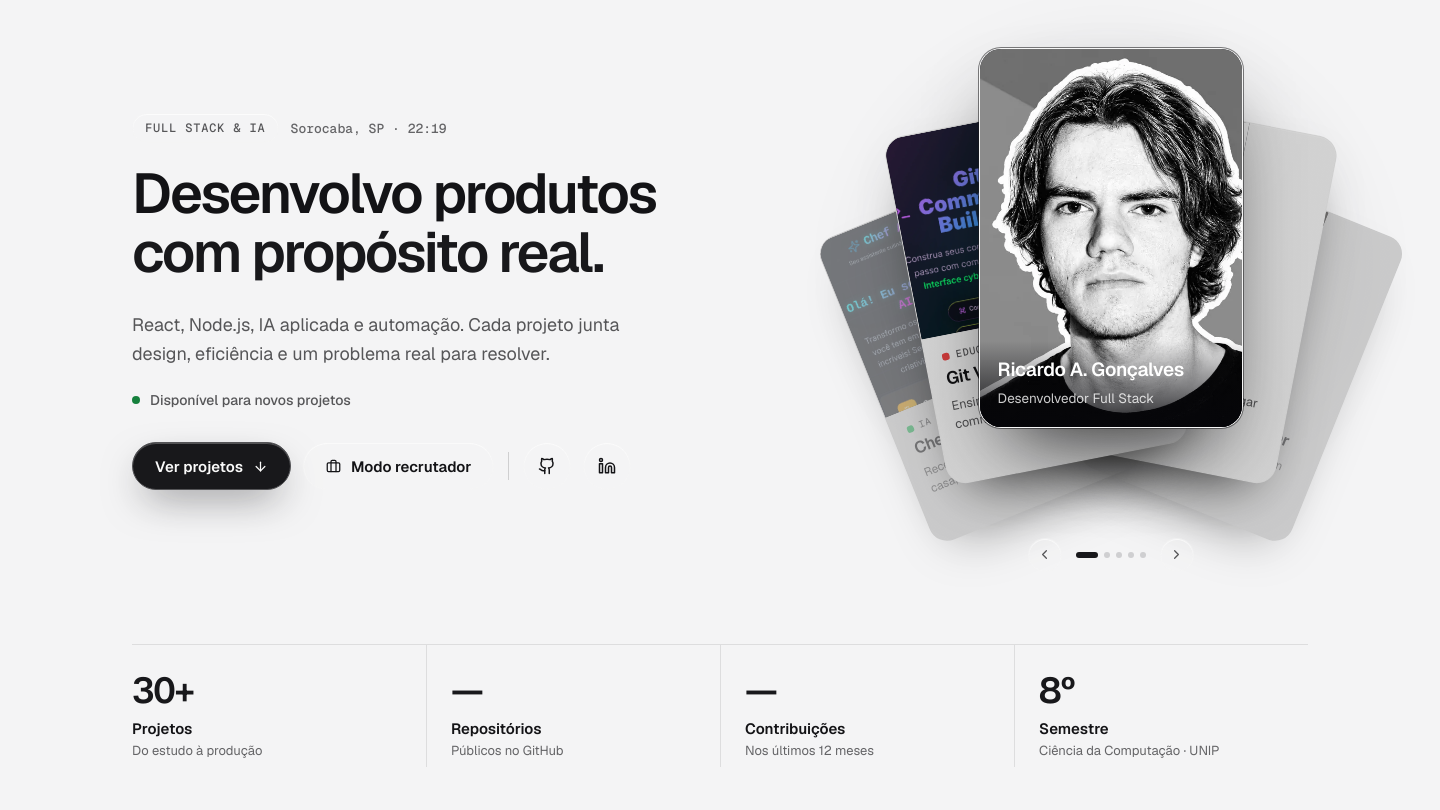
Test: Header › opens the recruiter summary and closes it again
Click the button "Modo recrutador" at (399, 466), box [303,442,494,490]
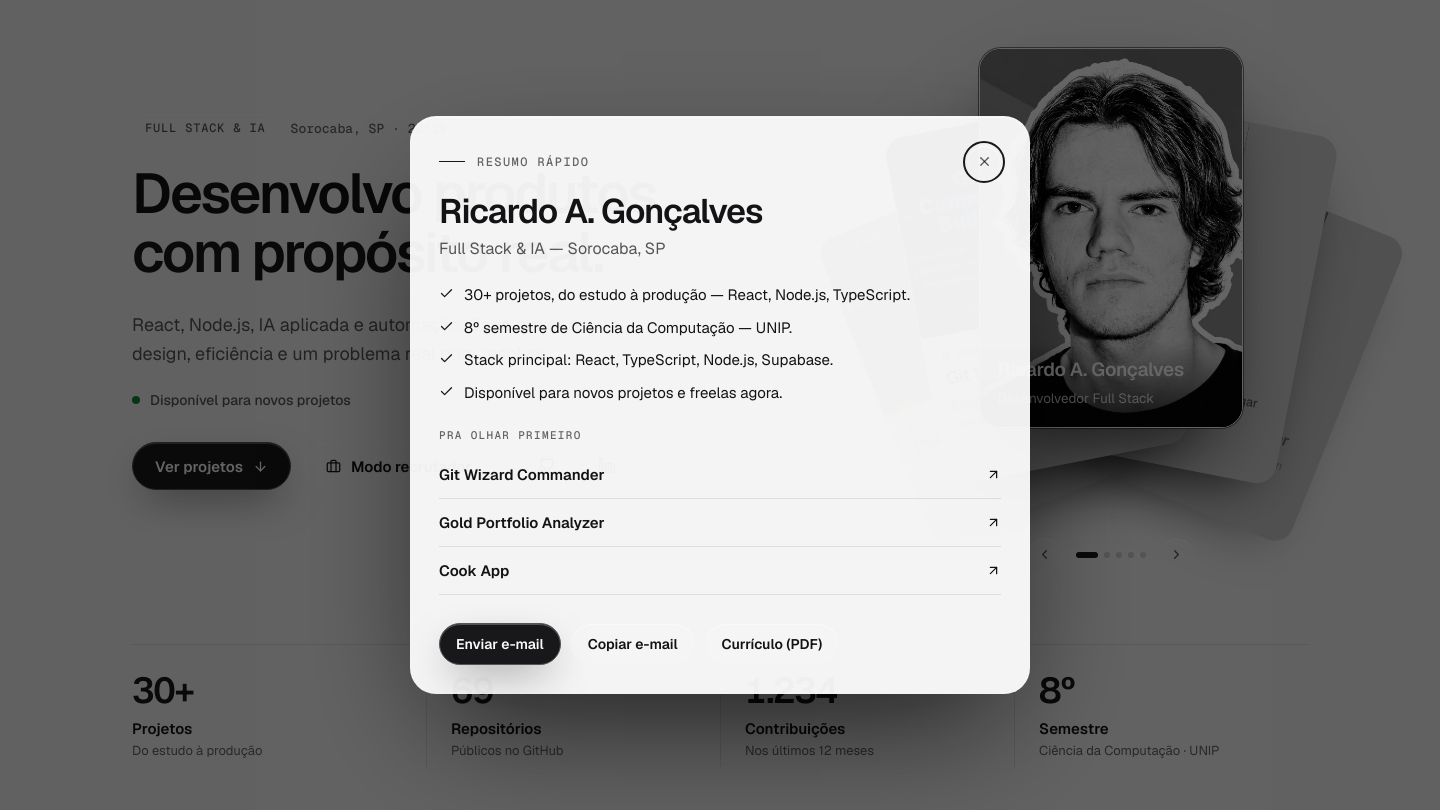
Now the text "Pra olhar primeiro" is shown, box [439,428,582,442]
Click the button named "Fechar" at (984, 162), box [967,145,1001,179]
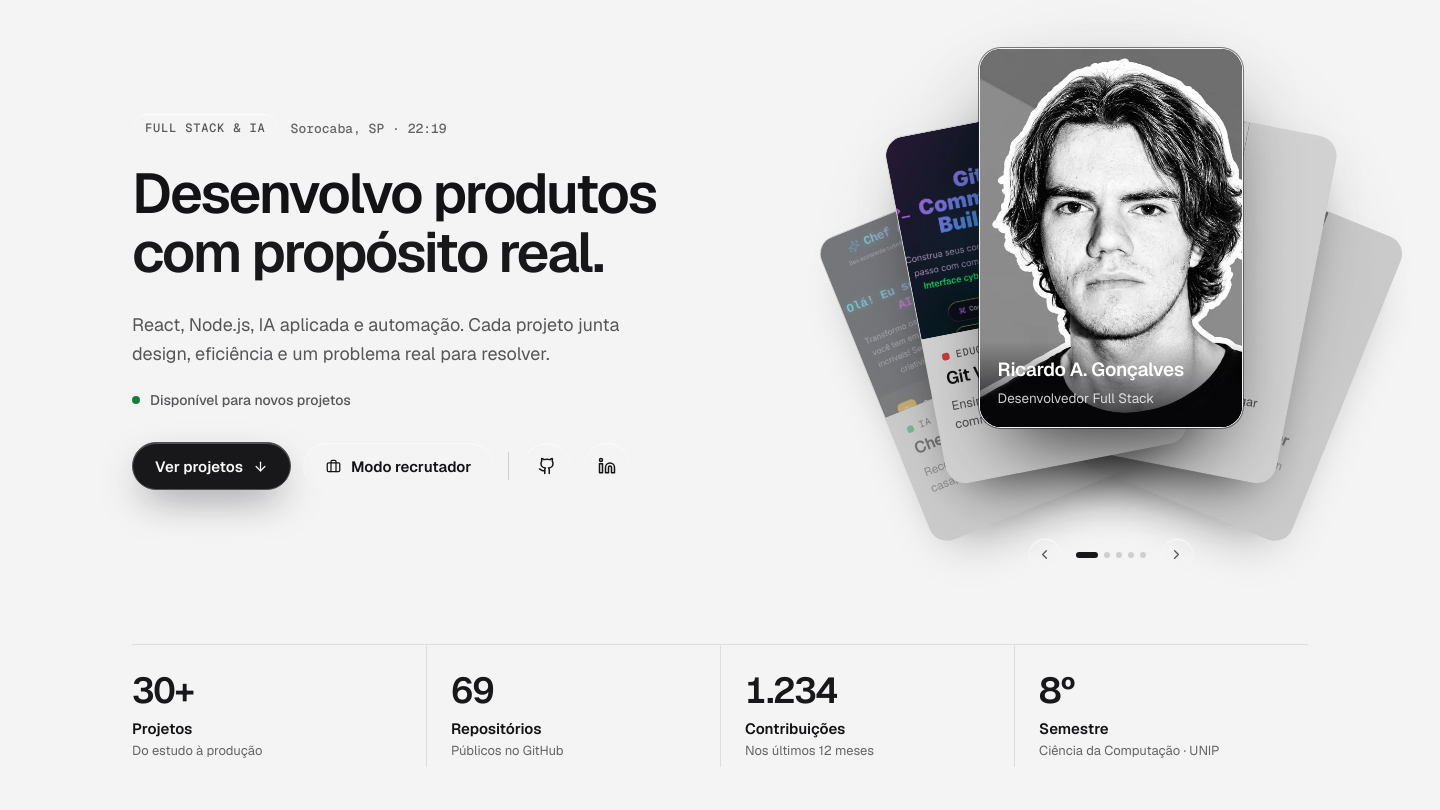
Now the dialog is gone
